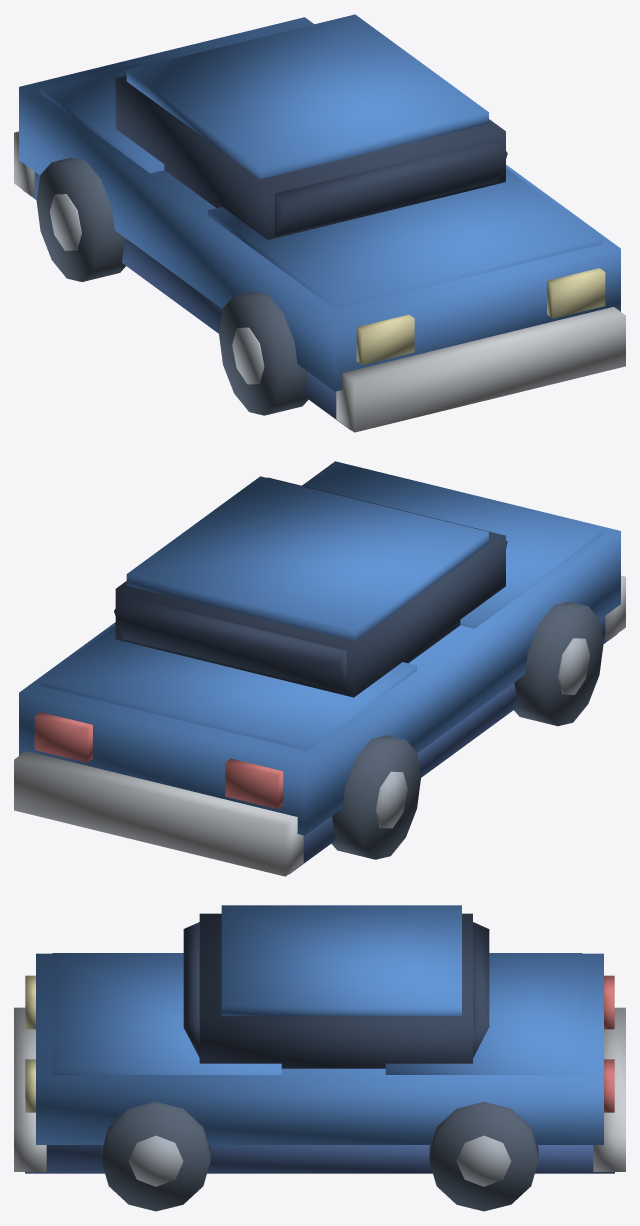
Rendered from town-car.glb.
3 renders of one model, top to bottom at view 1: azimuth 30°, elevation 25°; view 2: azimuth 150°, elevation 25°; view 3: azimuth 270°, elevation 25°, orthographic. The views are drawn at different scales.
Visible parts, largest first — view 1: world; view 2: world; view 3: world.
Boxes of the visible parts, <box> form: world: <box>14,14,625,432</box>; world: <box>14,461,625,876</box>; world: <box>14,905,625,1211</box>.
Size of the model in its own units: 3 by 1.8 by 5.4.
